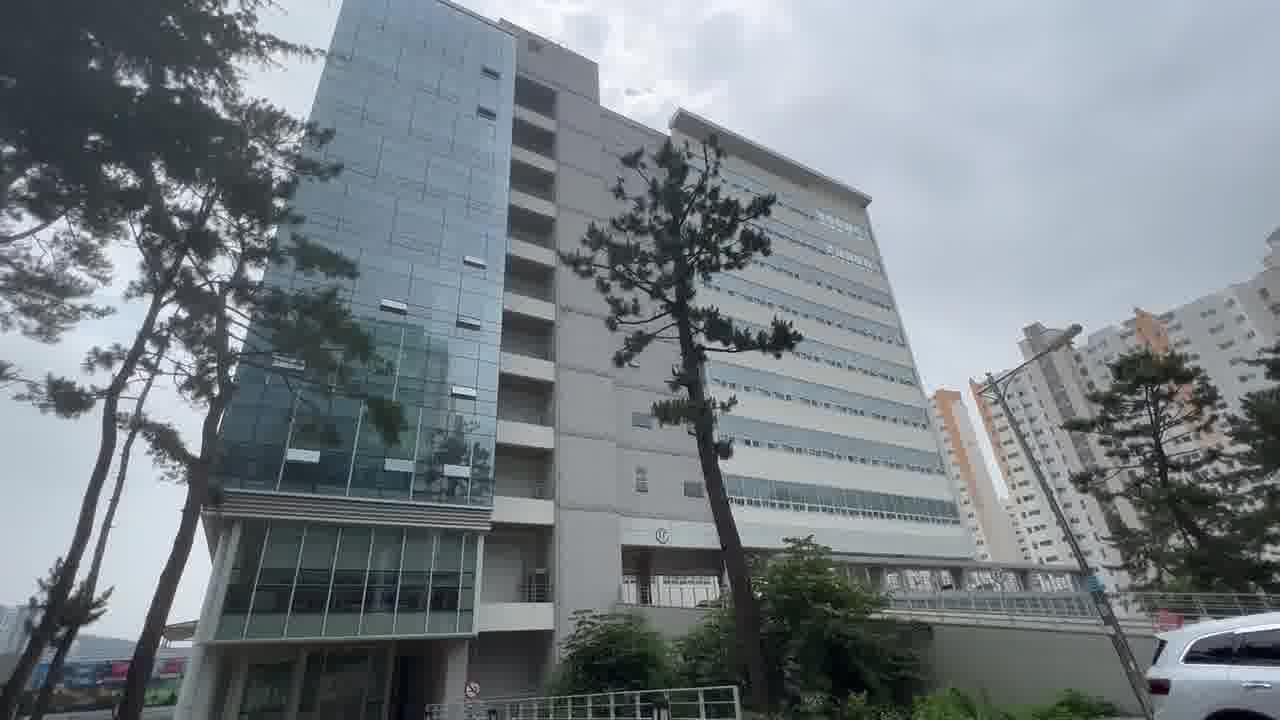building: (354, 0, 609, 497)
